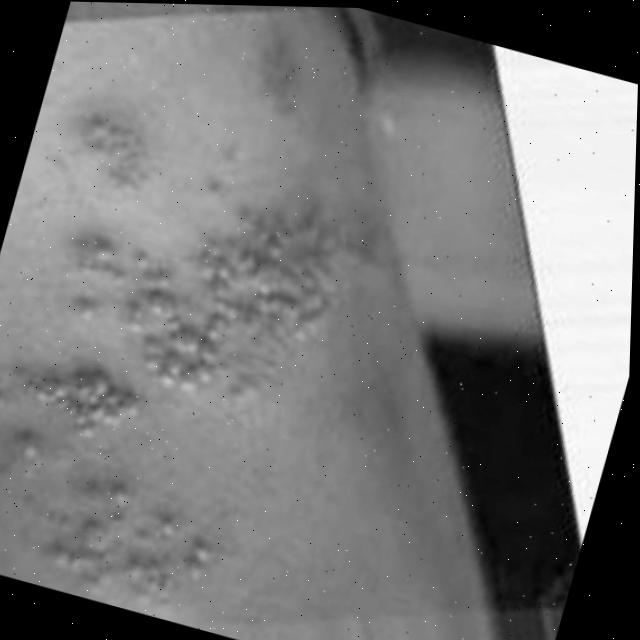Shingles: (0, 73, 422, 640), (239, 37, 320, 130)
